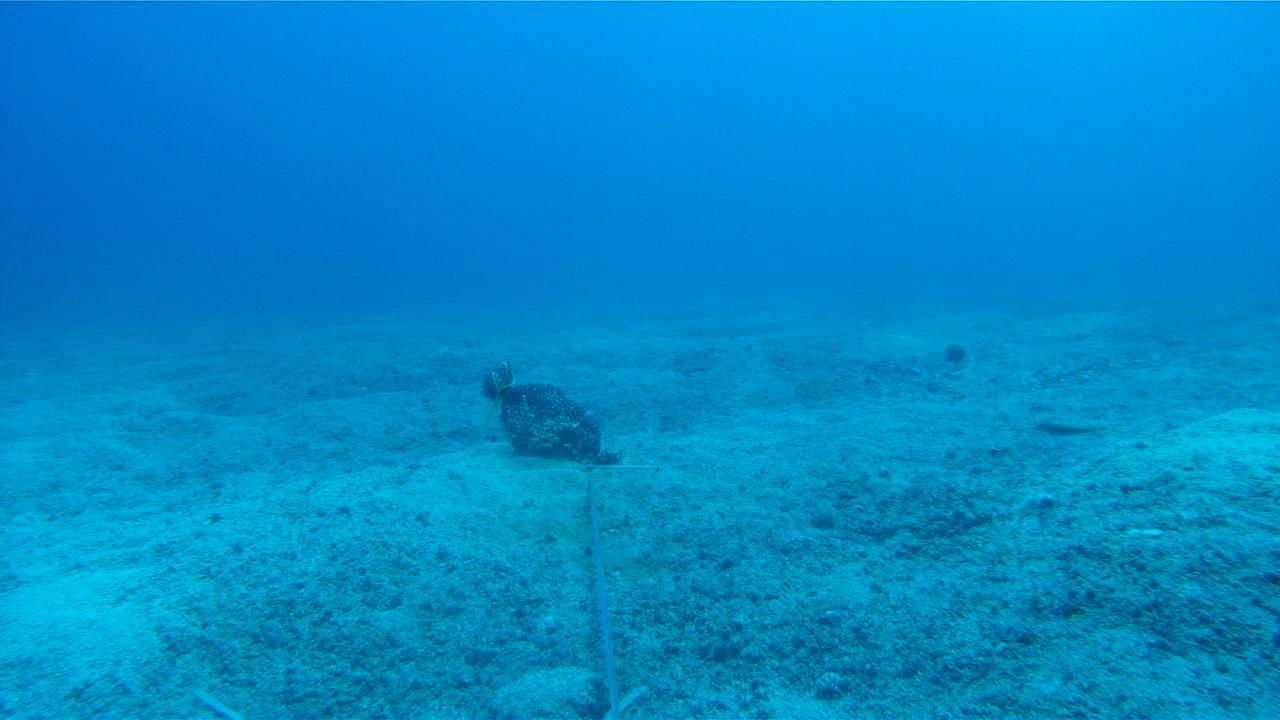bothus: (1032, 406, 1114, 435)
